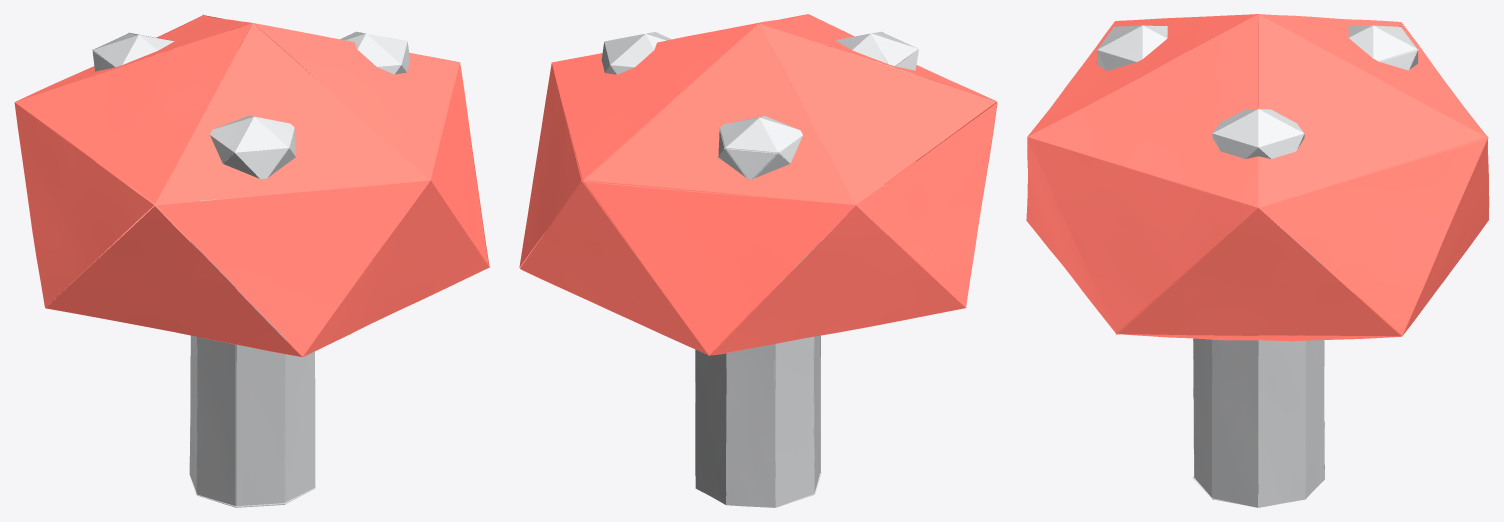
File: mushroom.glb
3 renders of one model, left to right at view 1: azimuth 30°, elevation 25°; view 2: azimuth 150°, elevation 25°; view 3: azimuth 270°, elevation 25°, orthographic.
Visible parts, largest first — view 1: MushroomStem; view 2: MushroomStem; view 3: MushroomStem.
Boxes of the visible parts, left/top/right/bottom form: MushroomStem: left=14, top=14, right=489, bottom=507; MushroomStem: left=519, top=14, right=997, bottom=507; MushroomStem: left=1026, top=14, right=1489, bottom=507.
Bounding box in the file's own units: 0.8053 × 0.8509 × 0.7665.
